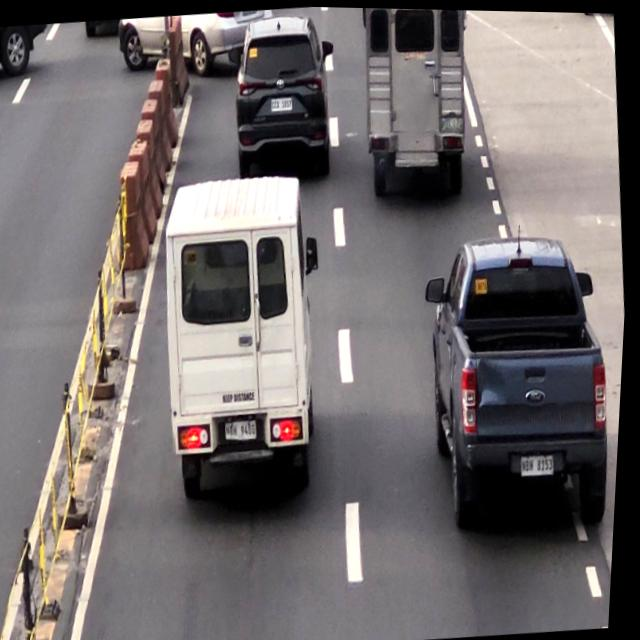Car: (419, 226, 621, 529), (151, 173, 327, 481), (226, 14, 330, 168)
Jeep: (358, 6, 476, 192)
License-Plate: (521, 448, 560, 478), (226, 416, 264, 444), (440, 109, 468, 132), (271, 93, 294, 111)
